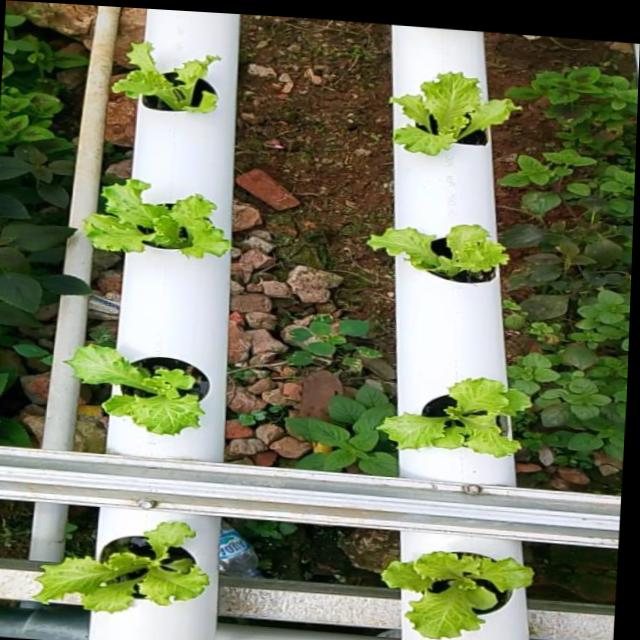Baby: (374, 527, 525, 633), (26, 512, 201, 603), (62, 342, 207, 433), (367, 372, 523, 452), (79, 177, 228, 256), (385, 71, 516, 154), (363, 223, 505, 282), (108, 42, 216, 112)
